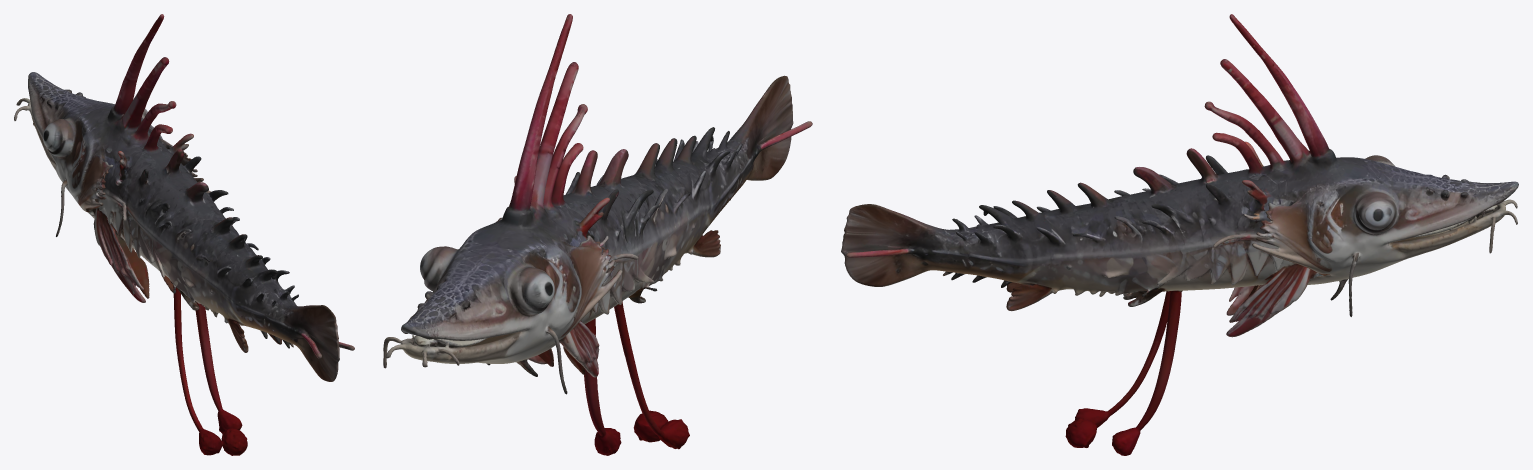
The model's file is oarY_6.glb.
3 views of the same model, side by side, from view 1: azimuth 30°, elevation 25°; view 2: azimuth 150°, elevation 25°; view 3: azimuth 270°, elevation 25° (orthographic). The views are drawn at different scales.
Visible parts, largest first — view 1: tripo_node_90e73857-3de1-4032-b8e0-dbfe03500b7d; view 2: tripo_node_90e73857-3de1-4032-b8e0-dbfe03500b7d; view 3: tripo_node_90e73857-3de1-4032-b8e0-dbfe03500b7d.
Part boxes in pixels (bbox=[...]): tripo_node_90e73857-3de1-4032-b8e0-dbfe03500b7d: bbox=[14, 14, 354, 455]; tripo_node_90e73857-3de1-4032-b8e0-dbfe03500b7d: bbox=[383, 14, 812, 455]; tripo_node_90e73857-3de1-4032-b8e0-dbfe03500b7d: bbox=[841, 14, 1518, 455].
Size of the model in its own units: 0.1958 by 0.7006 by 1.
1 material, 1 textured.
